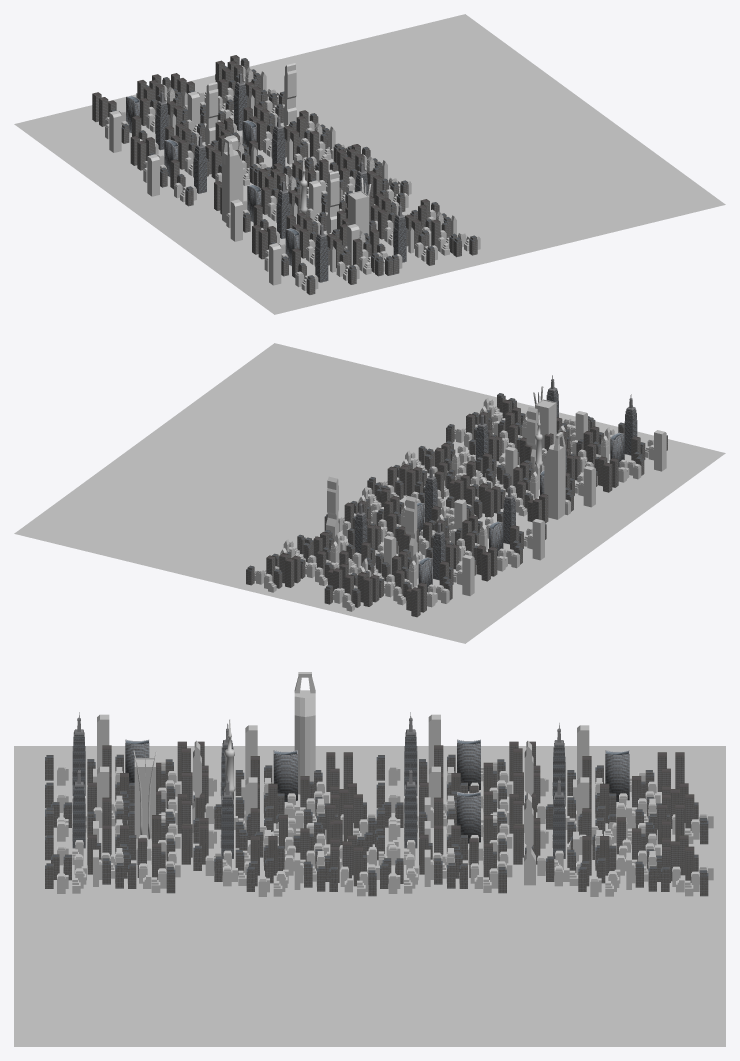
File: CITY.fbx
3 views of the same model, one above another, from view 1: azimuth 30°, elevation 25°; view 2: azimuth 150°, elevation 25°; view 3: azimuth 270°, elevation 25° (orthographic). The views are drawn at different scales.
Visible parts, largest first — view 1: Plane, Cube.007, Cube.005, Cube.339, Cube.350, Cube.680, Cube.588, Cube.441, Cube.101, Cube.345, Cube.248, Cube.686 (+5 smaller); view 2: Plane, Cube.007, Cube.005, Cube.339, Cube.350, Cube.588, Cube.441, Cube.345, Cube.680, Cube.675, Cube.433, Cube.596 (+3 smaller); view 3: Plane, Cube.007, Cube.005, Cube.683, Cube.348, Cube.251, Cube.438, Cube.339, Cube.101, Cube.248, Cube, Cube.344 (+4 smaller).
Boxes of the visible parts, x1,y1,x2,y2 form: Plane: (14, 14, 725, 314); Cube.007: (222, 137, 243, 222); Cube.005: (348, 177, 371, 235); Cube.339: (283, 63, 296, 126); Cube.350: (205, 82, 218, 145); Cube.680: (326, 171, 339, 234); Cube.588: (315, 220, 328, 282); Cube.441: (194, 132, 206, 193); Cube.101: (393, 201, 406, 262); Cube.345: (155, 88, 168, 150); Cube.248: (272, 113, 285, 172); Cube.686: (277, 177, 289, 238); Plane: (14, 343, 725, 643); Cube.007: (544, 432, 565, 519); Cube.005: (533, 386, 556, 448); Cube.339: (326, 476, 339, 541); Cube.350: (405, 495, 417, 561); Cube.588: (624, 394, 637, 455); Cube.441: (503, 483, 515, 544); Cube.345: (433, 519, 445, 580); Cube.680: (526, 407, 538, 472); Cube.675: (583, 466, 595, 507); Cube.433: (532, 519, 544, 560); Cube.596: (654, 430, 666, 471); Plane: (14, 746, 725, 1046); Cube.007: (294, 672, 315, 794); Cube.005: (133, 750, 156, 839); Cube.683: (273, 750, 297, 801); Cube.348: (605, 750, 629, 801); Cube.251: (457, 792, 480, 843); Cube.438: (457, 739, 480, 791); Cube.339: (524, 793, 535, 885); Cube.101: (72, 764, 85, 848); Cube.248: (404, 764, 417, 848); Cube: (221, 776, 233, 858); Cube.344: (553, 775, 565, 858).
Bounding box in the file's own units: 16809 × 3210 × 16809.
